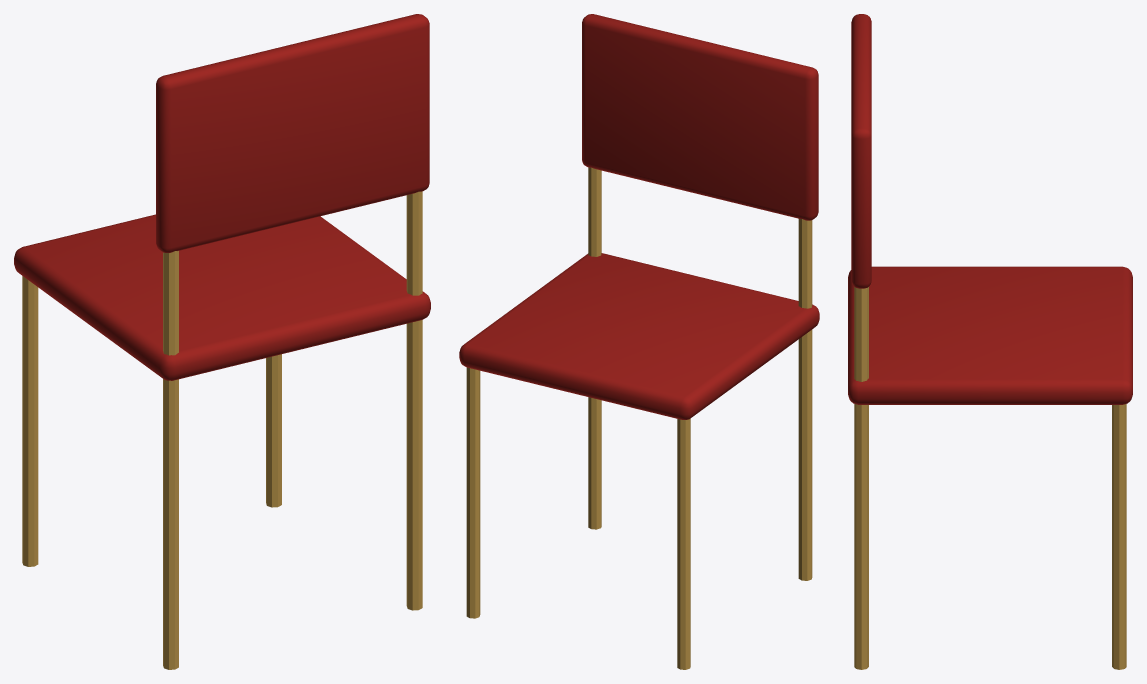
File: hospitality.function.banquet_chair.glb
3 views of the same model, side by side, from view 1: azimuth 30°, elevation 25°; view 2: azimuth 150°, elevation 25°; view 3: azimuth 270°, elevation 25° (orthographic). The views are drawn at different scales.
Parts seen in each view (by area): view 1: main__fabric_red, main__brass; view 2: main__fabric_red, main__brass; view 3: main__fabric_red, main__brass.
Boxes of the visible parts, x1,y1,x2,y2 form: main__fabric_red: (14,14,430,380); main__brass: (22,191,422,669); main__fabric_red: (459,14,819,419); main__brass: (466,167,812,669); main__fabric_red: (848,14,1132,404); main__brass: (854,287,1126,669).
Size of the model in its own units: 0.42 by 0.88 by 0.42.
